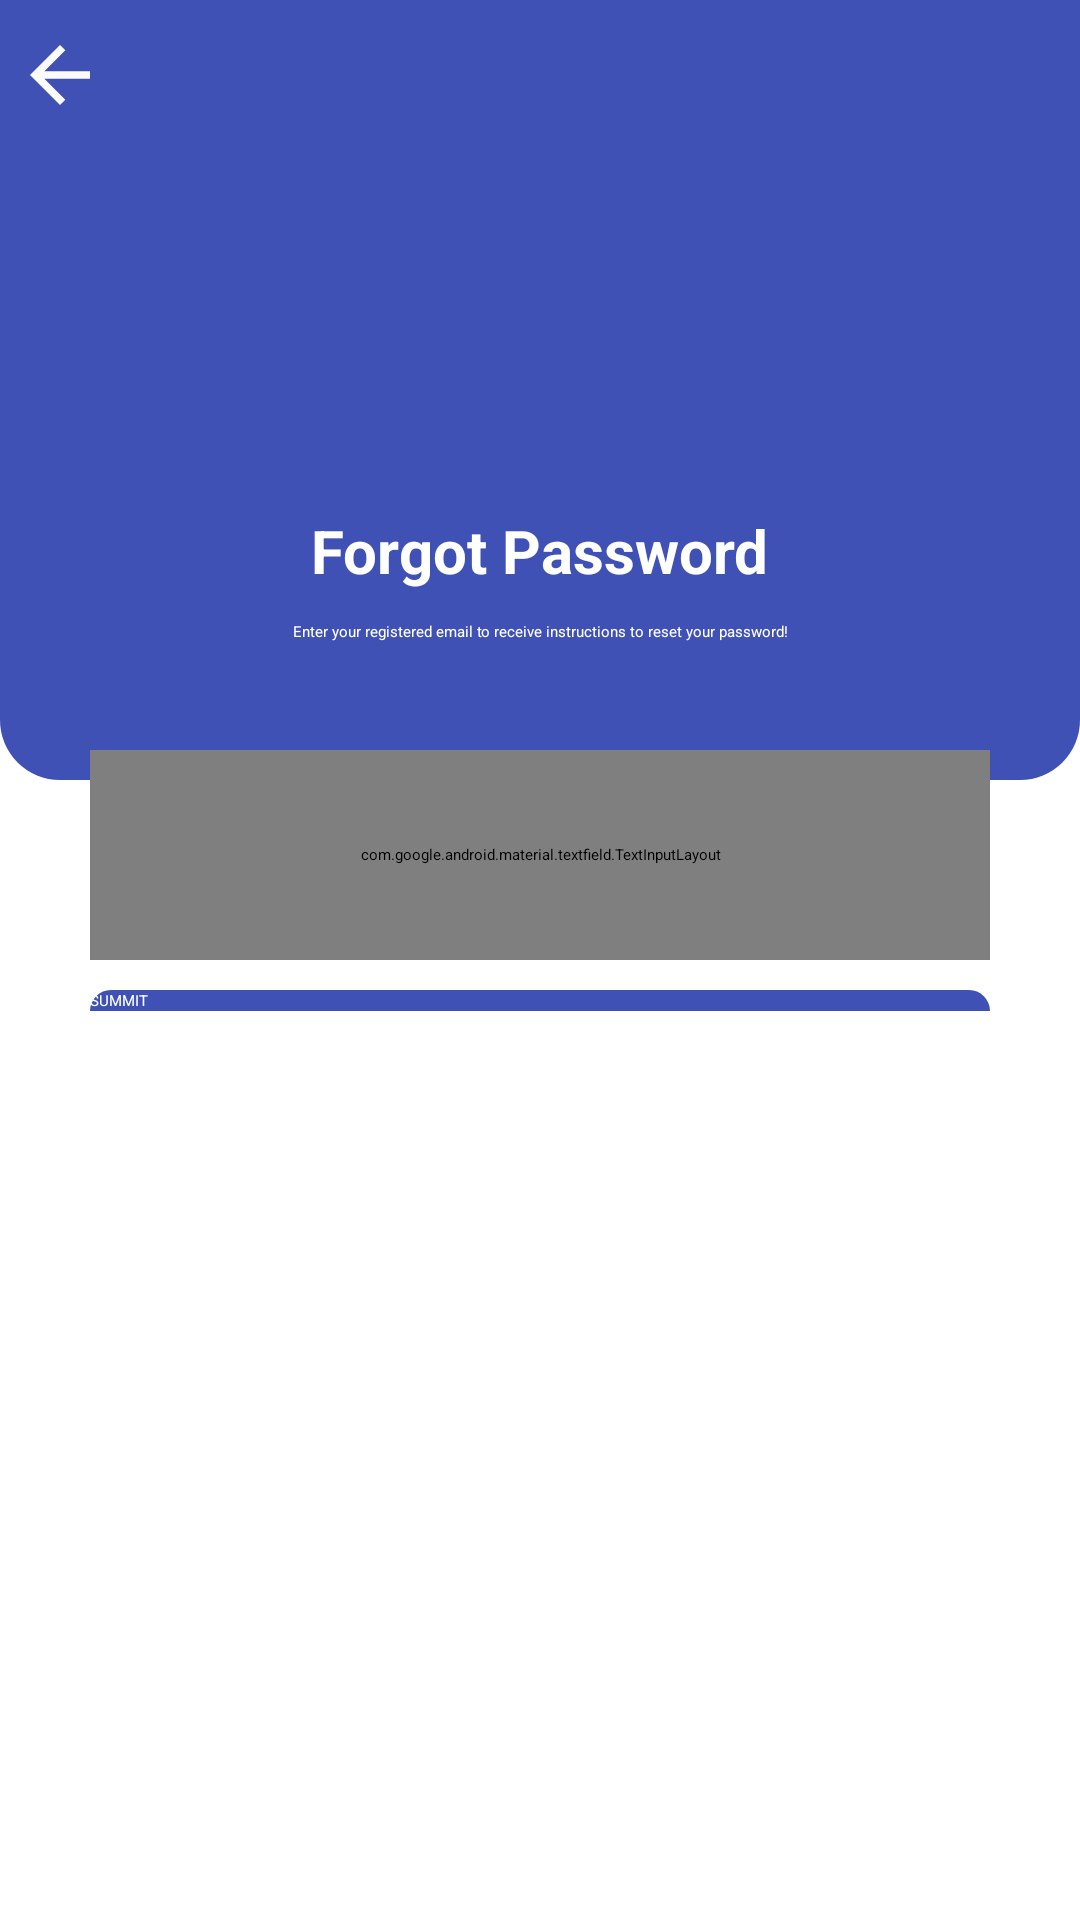

Where icons sit on this 1080x1920 app screen, as (x1, y1, x2, y2):
back: (30, 45, 90, 105)
